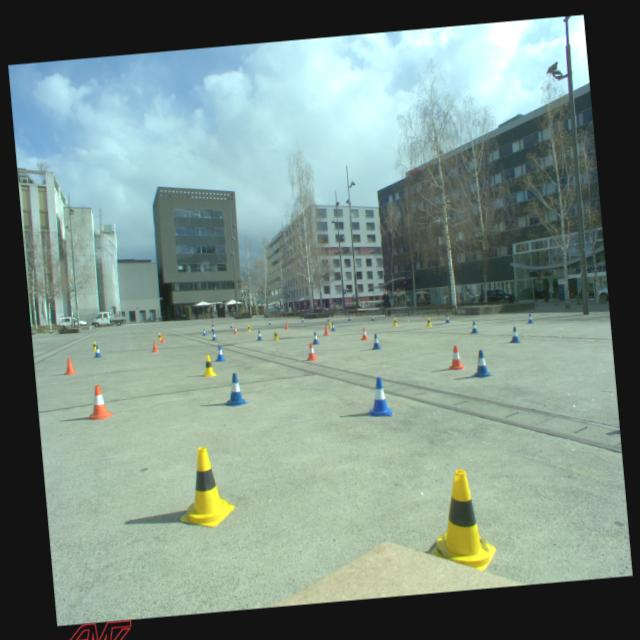blue_cone: (366, 376, 392, 416), (221, 371, 248, 407), (470, 348, 492, 378), (507, 326, 521, 344), (369, 332, 382, 350), (214, 344, 225, 362), (92, 344, 102, 358), (310, 330, 320, 344), (469, 320, 478, 333), (526, 312, 533, 324), (255, 330, 262, 340), (211, 331, 217, 340), (330, 322, 336, 331), (444, 314, 450, 322), (210, 325, 216, 331), (202, 328, 206, 335), (229, 322, 233, 328), (370, 314, 374, 320), (301, 316, 304, 322), (327, 316, 330, 321), (268, 320, 271, 324), (348, 316, 350, 320)
orange_cone: (84, 383, 114, 420), (446, 344, 466, 371), (62, 356, 77, 375), (304, 342, 318, 361), (359, 326, 368, 339), (150, 340, 159, 352), (322, 324, 330, 336), (160, 333, 166, 342), (233, 326, 238, 333), (284, 322, 289, 329)
yellow_cone: (422, 466, 497, 575), (172, 444, 236, 530), (200, 354, 217, 377), (272, 329, 279, 340), (91, 341, 98, 351), (425, 316, 432, 326), (392, 317, 398, 326), (246, 323, 252, 331), (327, 320, 333, 328), (158, 332, 162, 340)
